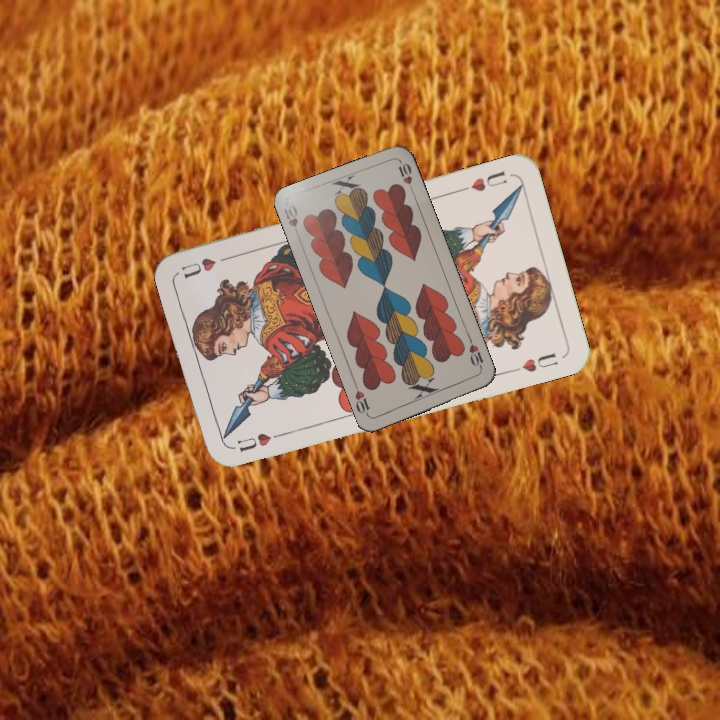H10: (279, 201, 303, 241), (465, 334, 487, 373)
HU: (456, 167, 509, 195), (233, 428, 286, 455)
